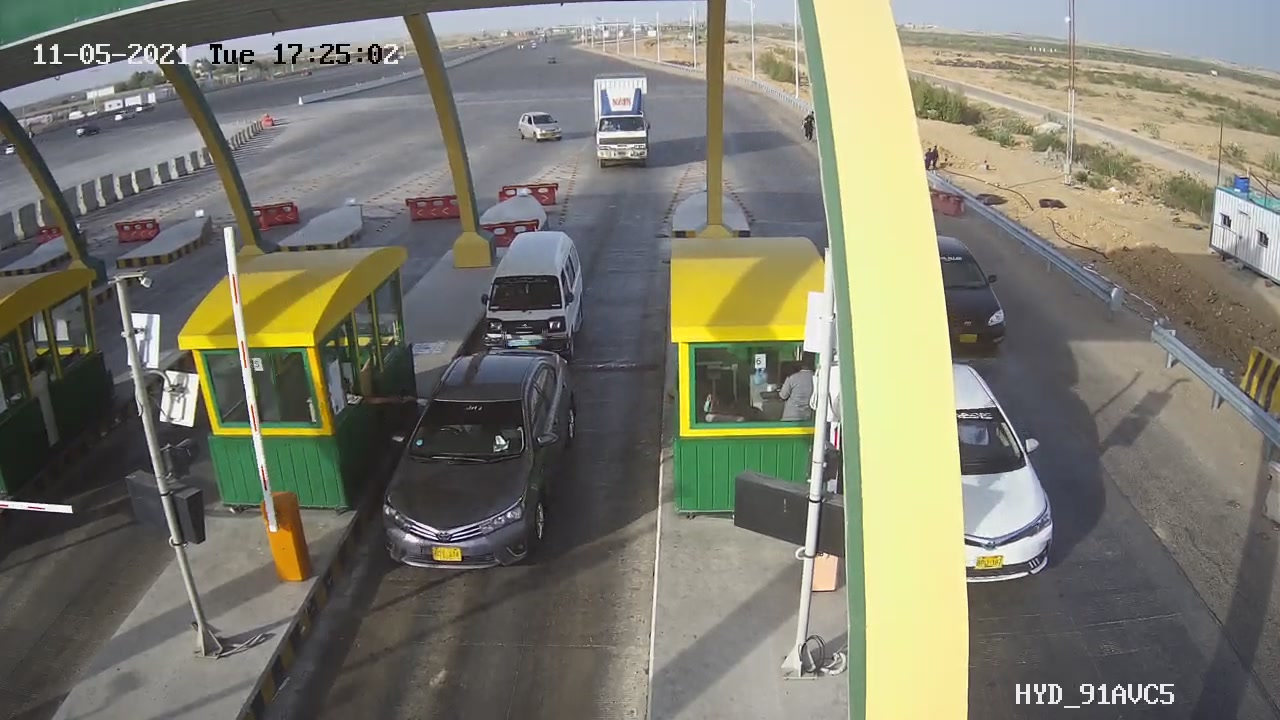F1: (359, 333, 596, 588), (464, 214, 603, 377)
